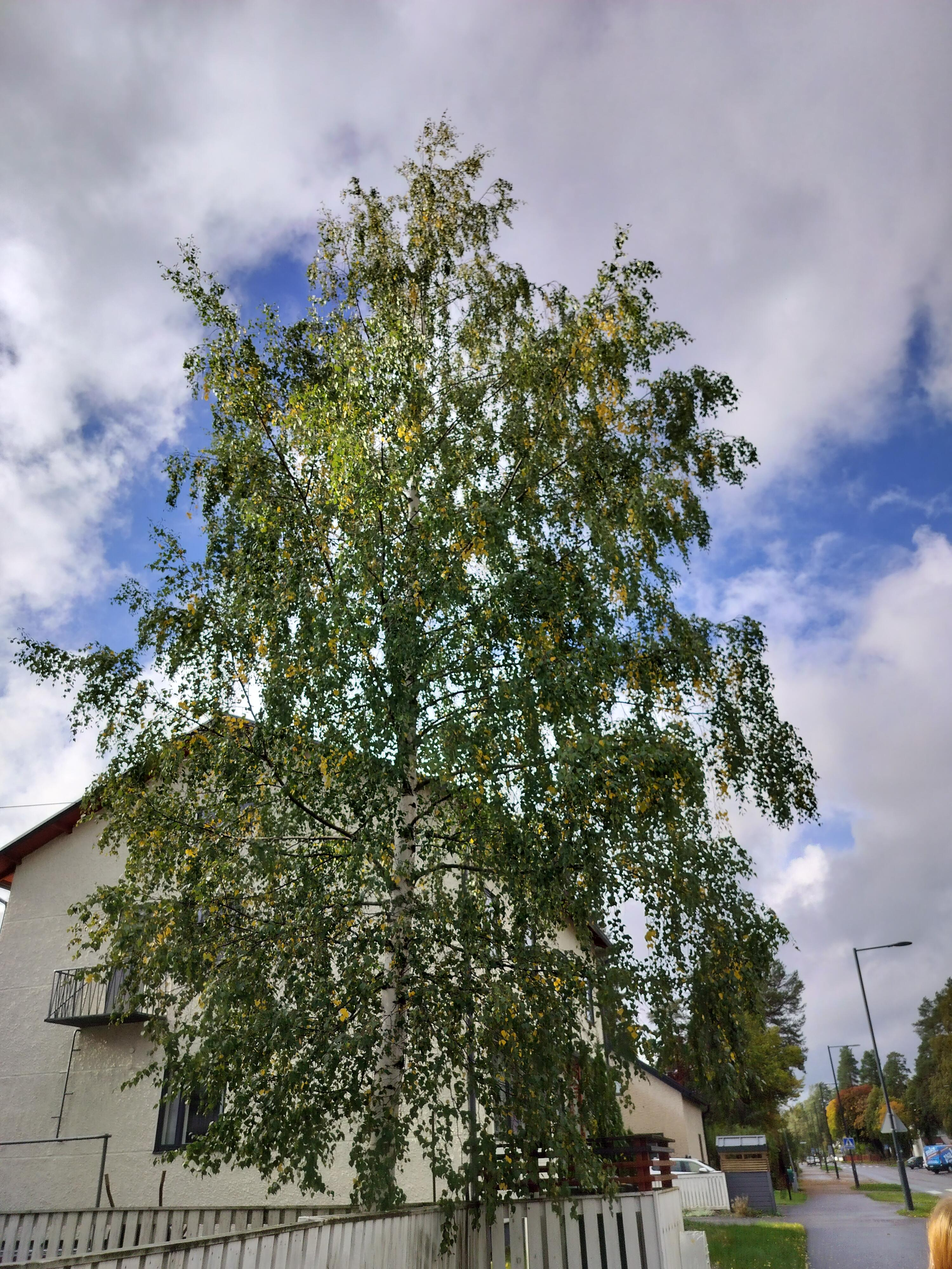Birch: (9, 107, 822, 1246), (119, 118, 554, 1193)
